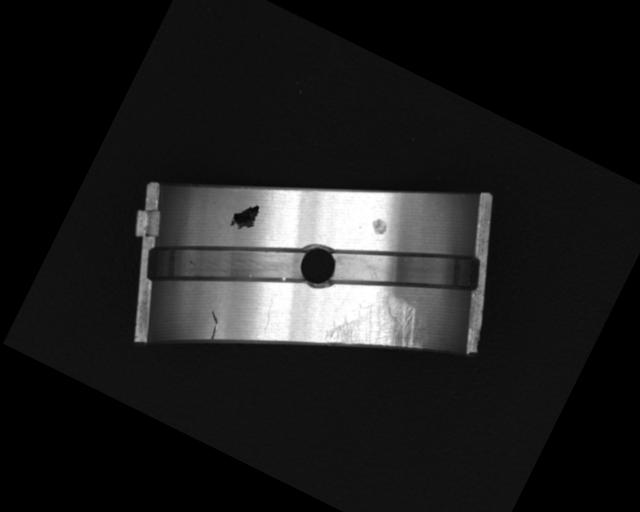blot: (226, 196, 263, 237)
bruise: (368, 216, 390, 238)
gap: (139, 188, 312, 335), (321, 198, 488, 339)
hole: (289, 237, 343, 295)
nick: (256, 297, 282, 332), (199, 310, 225, 342)
scratch: (320, 274, 439, 383)
